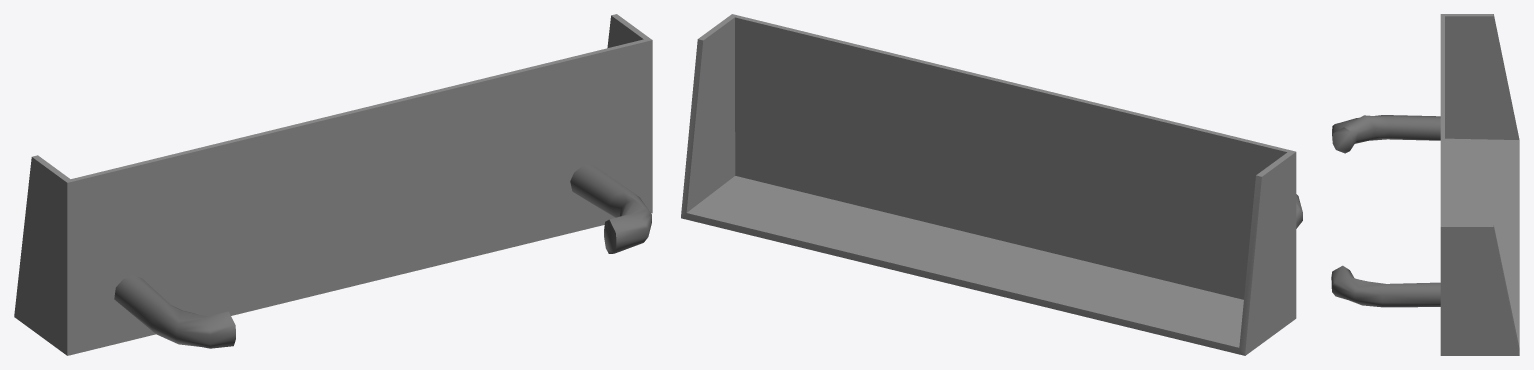
File: Shovel.fbx
The picture shows the model from 3 angles, left to right: view 1: azimuth 30°, elevation 25°; view 2: azimuth 150°, elevation 25°; view 3: azimuth 270°, elevation 25°; orthographic projection. The views are drawn at different scales.
Visible parts, largest first — view 1: Pala; view 2: Pala; view 3: Pala.
Boxes of the visible parts, left/top/right/bottom form: Pala: left=14, top=14, right=652, bottom=355; Pala: left=681, top=14, right=1302, bottom=355; Pala: left=1331, top=14, right=1519, bottom=355.
Size of the model in its own units: 1073 by 303 by 401.
